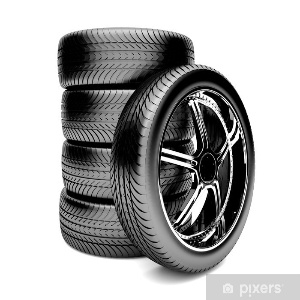tire: (113, 63, 257, 276), (52, 26, 201, 88), (61, 87, 199, 147), (60, 137, 195, 196), (58, 197, 194, 253)
